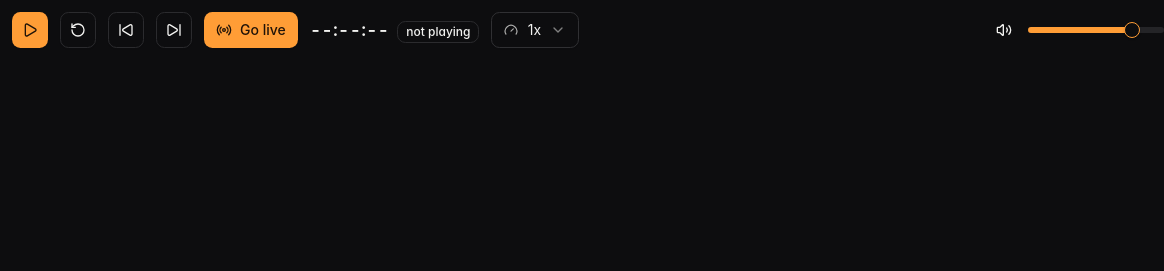
Test: playback speed › offers a quarter speed to four times, with normal marked
Click the dropdown named "Playback speed" at {"x": 536, "y": 30}, box 492,12 -> 580,48
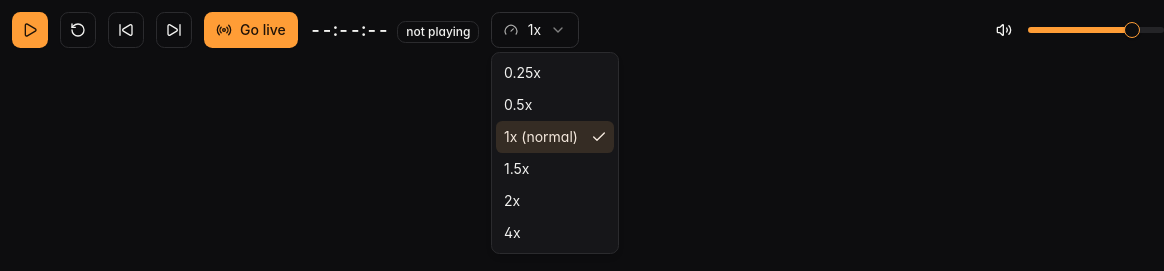
Expected: the options read "0.25x", "0.5x", "1x (normal)", "1.5x", "2x", "4x", in this order, 504,64 -> 541,81; 504,96 -> 532,113; 496,121 -> 614,153; 504,160 -> 530,177; 504,192 -> 520,209; 504,224 -> 521,241
